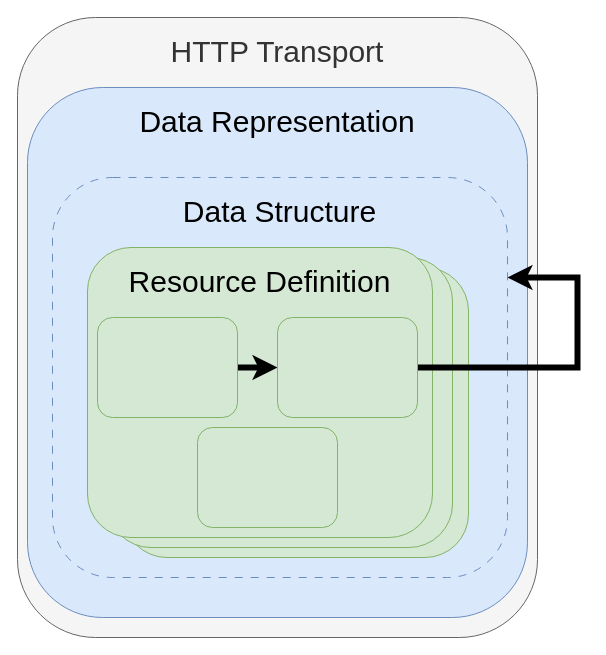
Image size: 606x655. Some labels were removed from this diagram. Here are the shapes that lost their labels. From the top down, the centre of each, then its label:
At pixel 167 367: "Data Elements".
At pixel 347 367: "Mapping".
At pixel 267 477: "Operations".
